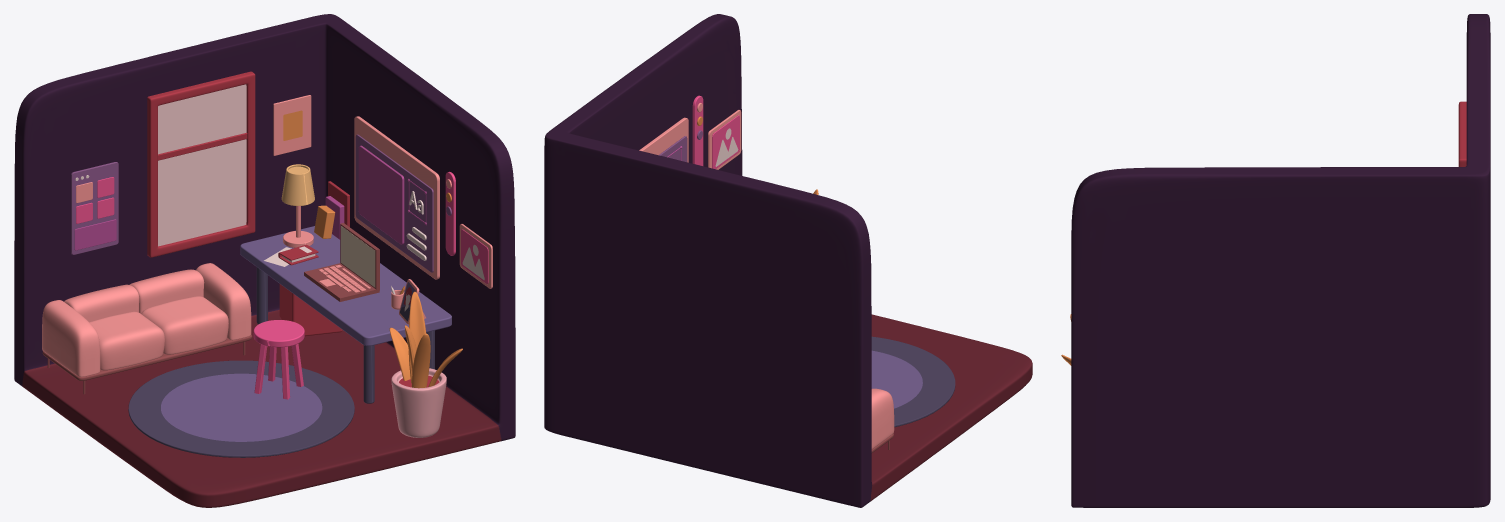
File: MiniRoom.gltf
3 renders of one model, left to right at view 1: azimuth 30°, elevation 25°; view 2: azimuth 150°, elevation 25°; view 3: azimuth 270°, elevation 25°, orthographic. The views are drawn at different scales.
Parts seen in each view (by area): view 1: Walls, 窗户, Ellipse.003, Ellipse 2.002, Rectangle.003, Cube 4.003, piilow, side.001, Rectangle 5.003, pilow, Rectangle 3.001, Rectangle 2.001 (+23 smaller); view 2: Walls, Ellipse.003, Ellipse 2.002, side.001, Rectangle 2.001, Rectangle 6, Rectangle 5; view 3: Walls, Cube 4.003.
Boxes of the visible parts, box(x1,y1,x2,y2) form: Walls: box(14, 14, 515, 507); 窗户: box(158, 84, 246, 246); Ellipse.003: box(128, 360, 354, 457); Ellipse 2.002: box(161, 373, 322, 441); Rectangle.003: box(240, 226, 451, 345); Cube 4.003: box(147, 71, 255, 257); piilow: box(141, 296, 228, 354); side.001: box(42, 300, 100, 376); Rectangle 5.003: box(358, 145, 404, 244); pilow: box(89, 311, 164, 370); Rectangle 3.001: box(355, 134, 433, 272); Rectangle 2.001: box(354, 116, 439, 279); Walls: box(544, 14, 1032, 507); Ellipse.003: box(871, 336, 955, 427); Ellipse 2.002: box(871, 350, 922, 408); side.001: box(871, 388, 894, 449); Rectangle 2.001: box(639, 117, 688, 162); Rectangle 6: box(712, 115, 739, 169); Rectangle 5: box(692, 95, 703, 165); Walls: box(1071, 14, 1490, 507); Cube 4.003: box(1458, 101, 1466, 166).
Bounding box in the file's own units: 19 × 16.65 × 19.45.
